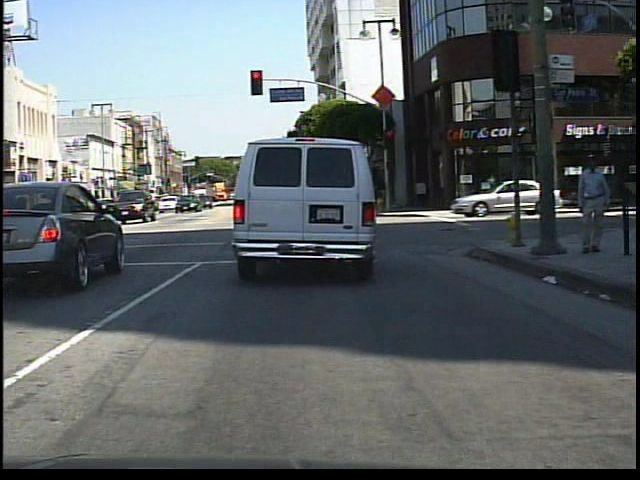person: (574, 150, 618, 258)
